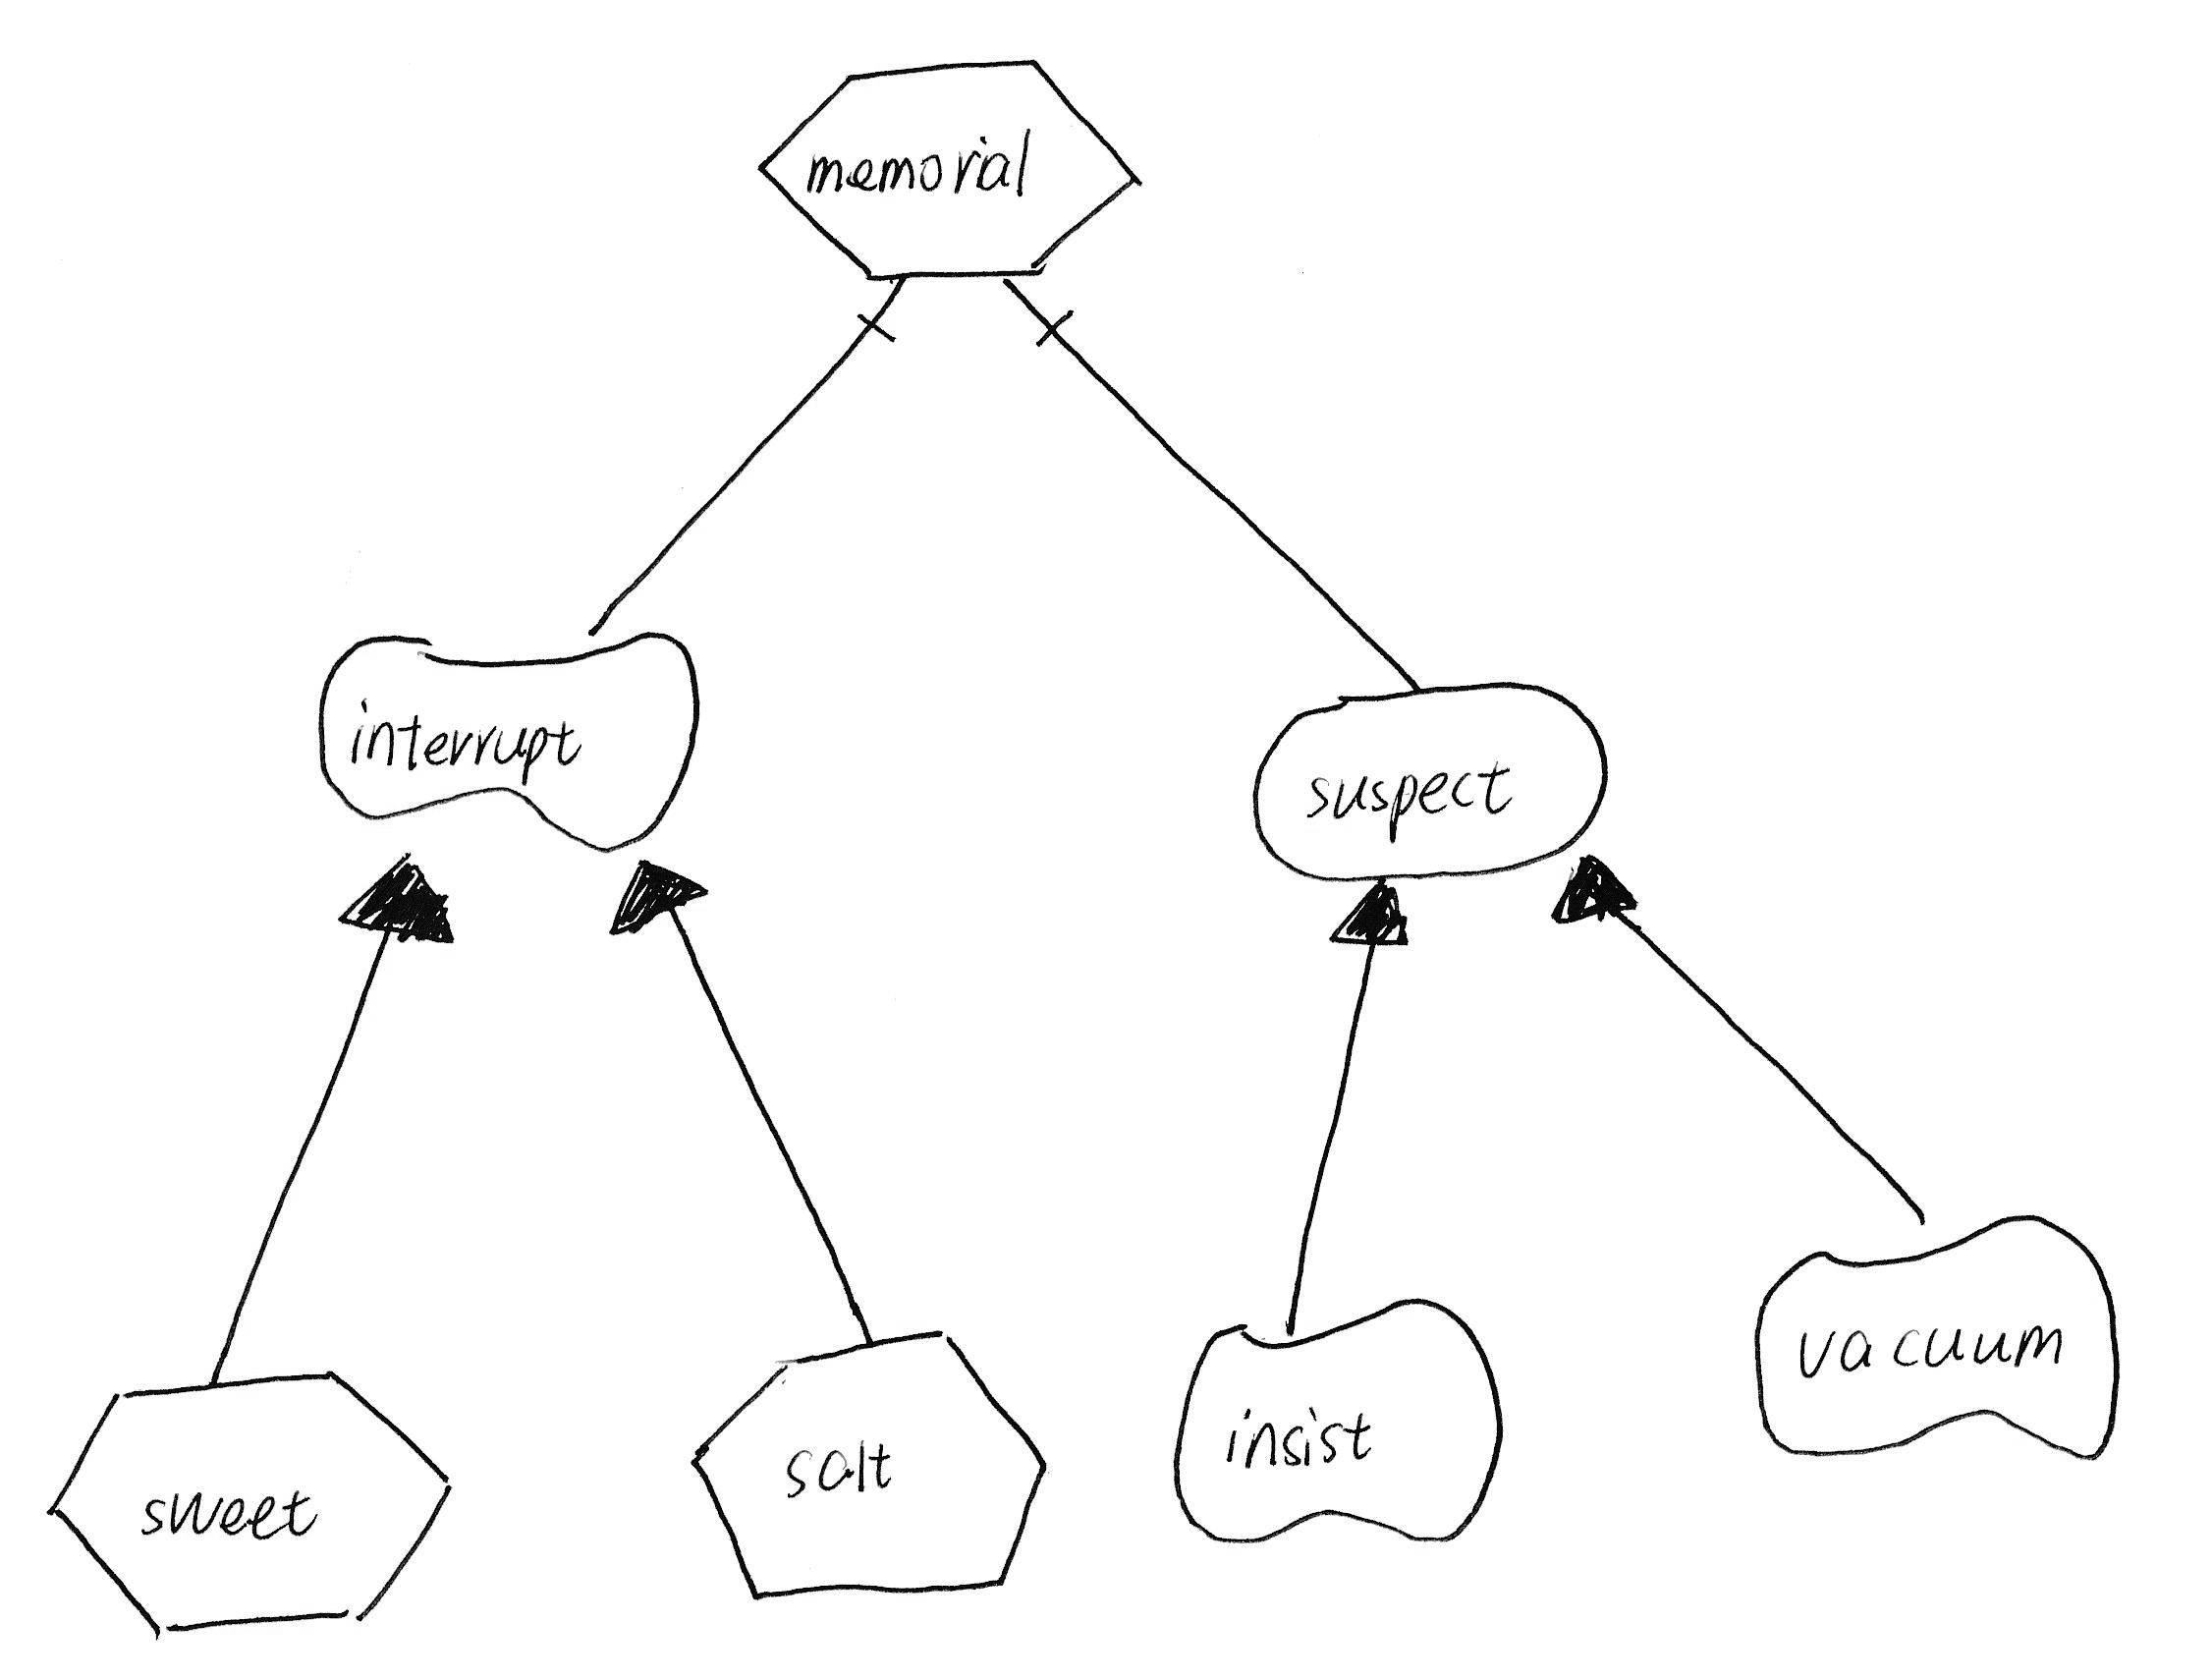and: (991, 263, 1100, 356), (848, 268, 913, 356)
goal: (1230, 660, 1623, 891)
or: (330, 841, 474, 959), (592, 845, 724, 945), (1313, 866, 1426, 959), (1540, 847, 1648, 942)
quality: (1731, 1196, 2145, 1481), (1154, 1277, 1525, 1563), (296, 616, 717, 861)
task: (32, 1353, 478, 1647), (672, 1309, 1065, 1614), (742, 46, 1162, 298)
